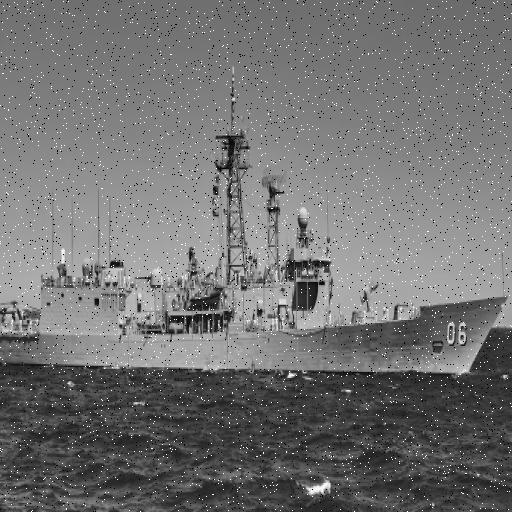Fragata: (1, 53, 511, 380)
